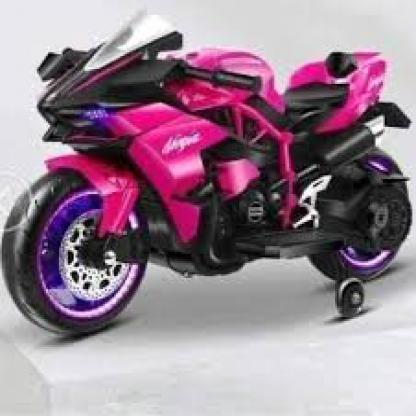Motorcycle: (2, 6, 414, 338)
